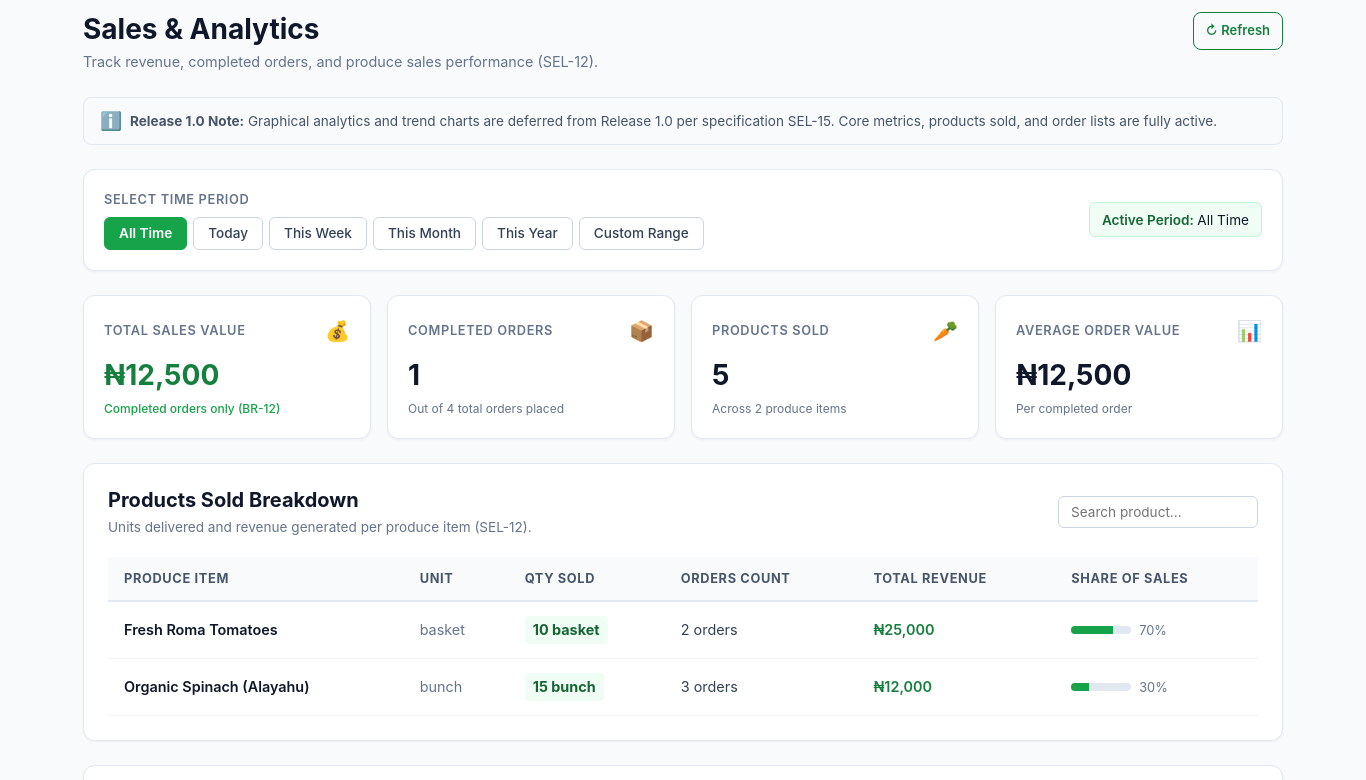
Scenario: FE-093 / SEL-12: Seller Sales Page › 3. Products Sold Breakdown Table (SEL-12) › filters products sold table when typing into search input
The width and height of the screenshot is (1366, 780).
expect the table with test id "products-sold-table" is shown: met, box 108,557 -> 1258,716
expect the row with test id "product-sold-row-1" is shown: met, box 108,601 -> 1258,659
Type "Spinach" into the field with test id "products-sold-search" at coordinates (1158, 512), box 1058,496 -> 1258,528
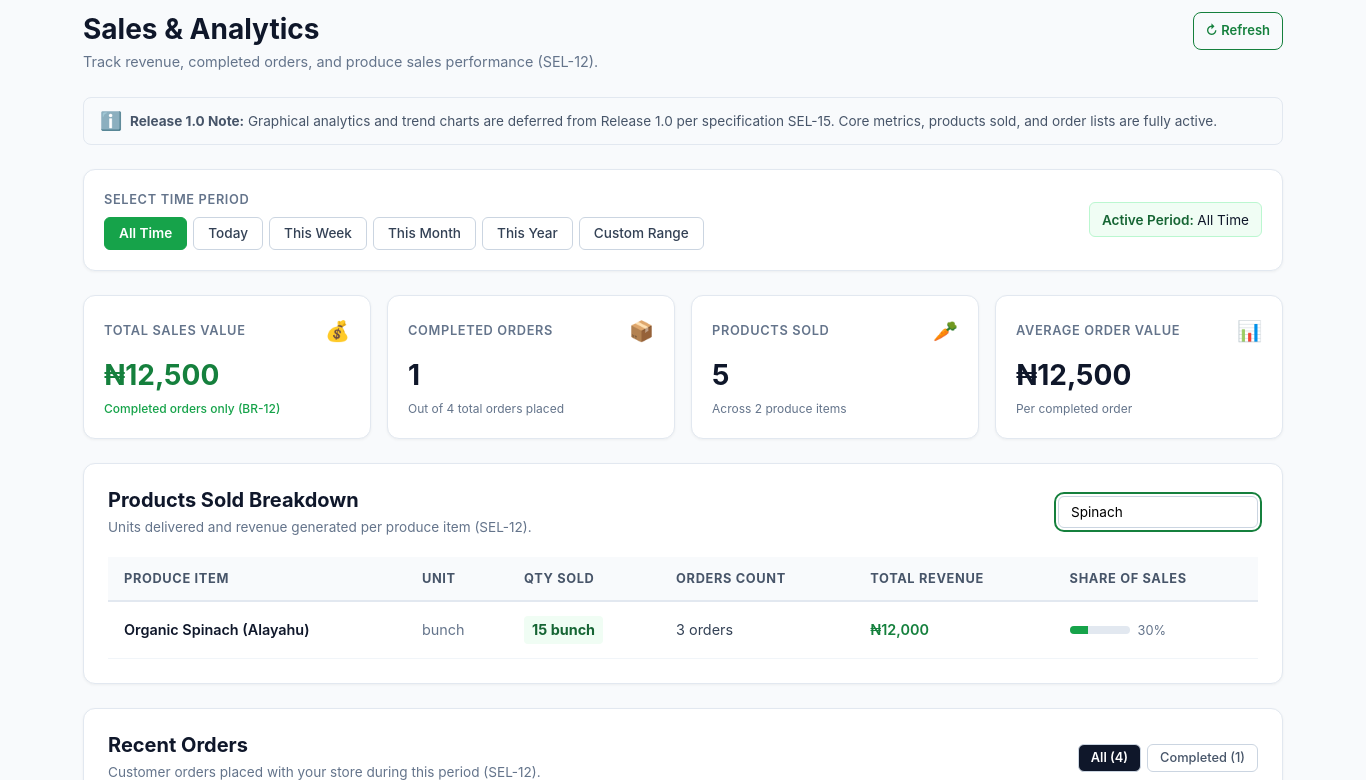
expect the row with test id "product-sold-row-2" is shown: met, box 108,601 -> 1258,659
expect the row with test id "product-sold-row-1" is gone: met
